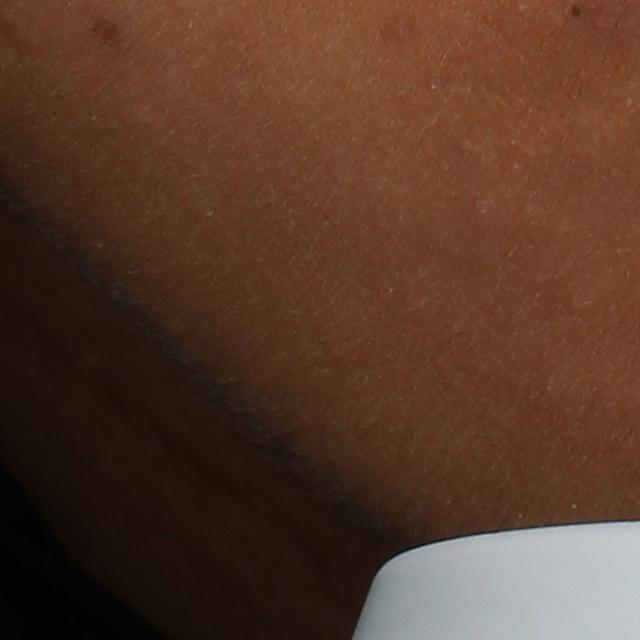nevus: (75, 3, 120, 50), (569, 2, 583, 22)
